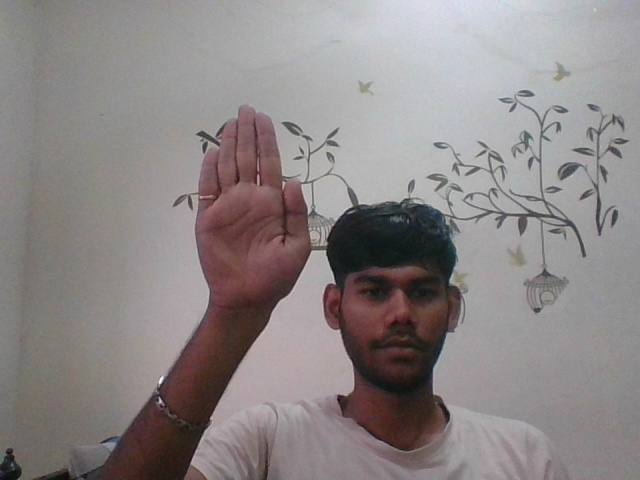Hello: (172, 114, 319, 319)
